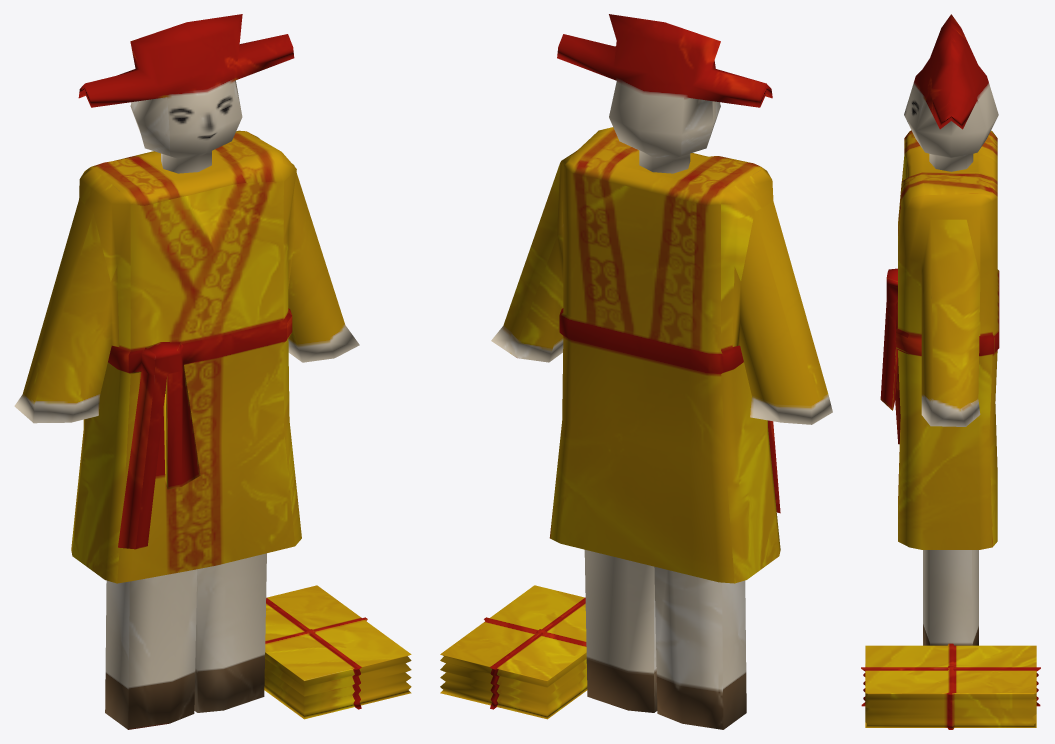
File: HumanoidTalisman.fbx
3 views of the same model, side by side, from view 1: azimuth 30°, elevation 25°; view 2: azimuth 150°, elevation 25°; view 3: azimuth 270°, elevation 25° (orthographic). The views are drawn at different scales.
Visible parts, largest first — view 1: HumanoidTalisman; view 2: HumanoidTalisman; view 3: HumanoidTalisman.
Part boxes in pixels (box(x1,y1,x2,y2)): HumanoidTalisman: box(14, 14, 411, 729); HumanoidTalisman: box(440, 14, 832, 729); HumanoidTalisman: box(861, 14, 1040, 729).
Bounding box in the file's own units: 13.24 × 25.33 × 6.68.
Materials: 1 (1 with a texture image).
